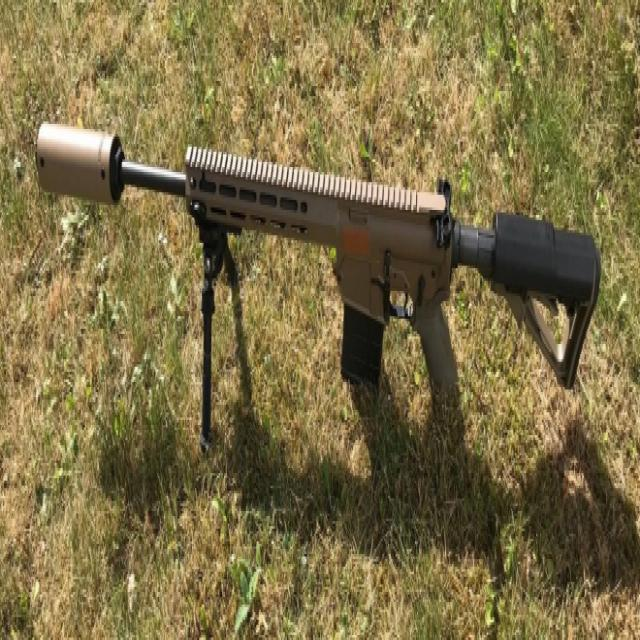Rifle: (36, 126, 602, 443)
